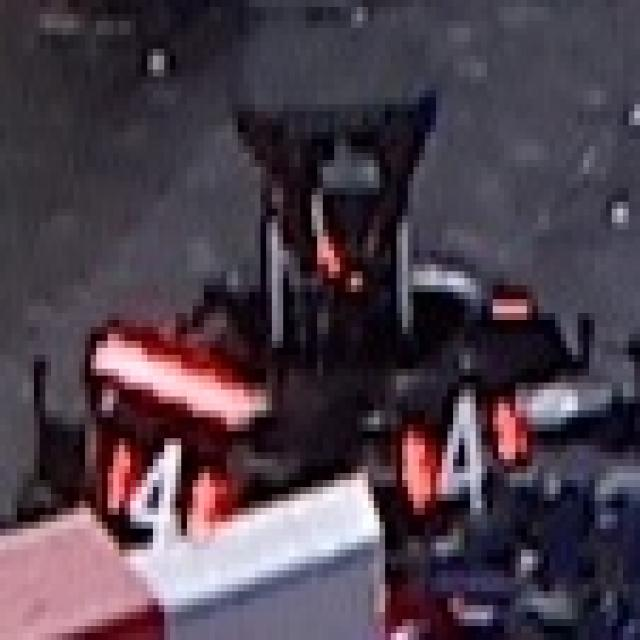R4: (382, 386, 524, 525), (88, 421, 224, 553)
